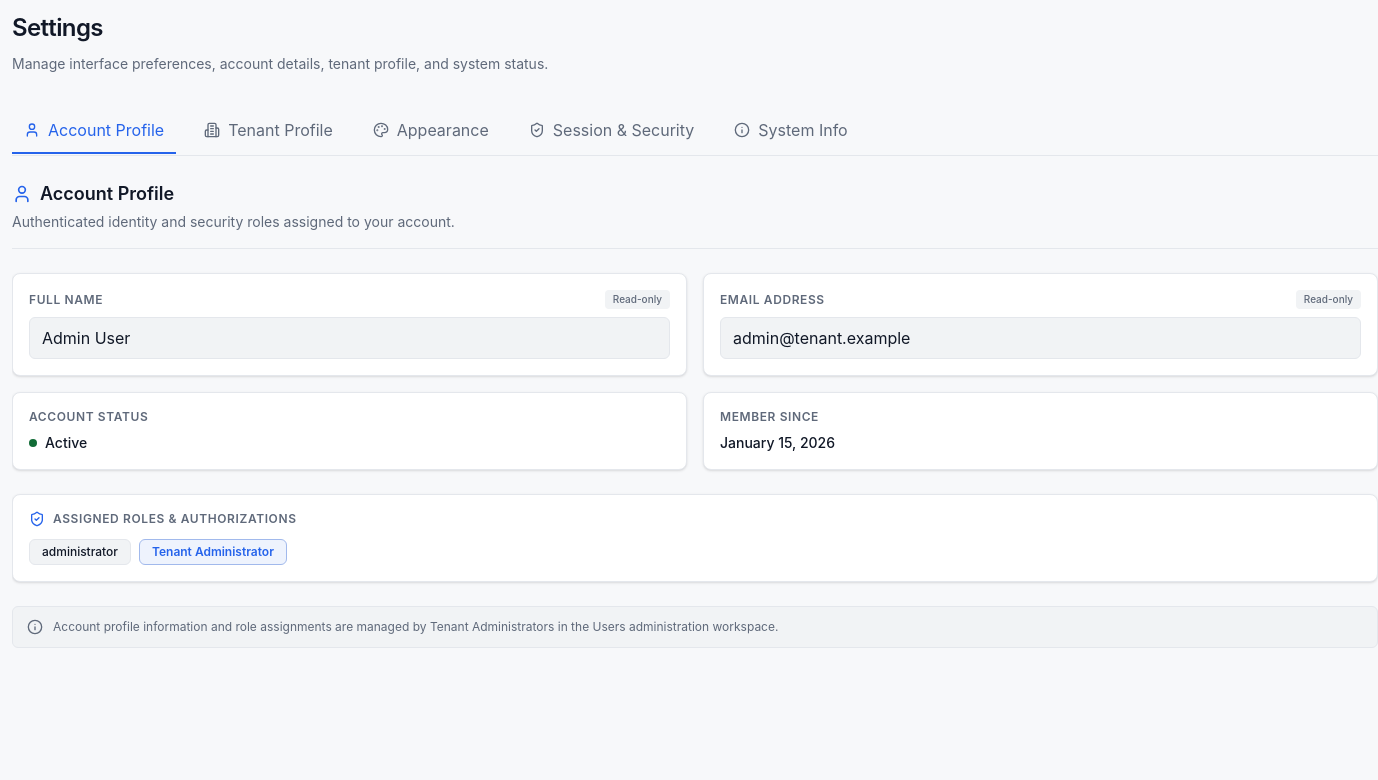
Scenario: SettingsWorkspace Component › tenant profile fields remain read-only without create/edit actions or tenant selectors
The image size is (1378, 780).
Check: the heading "Settings" is shown, box top-left (12, 13), bottom-right (103, 42)
Click the tab "Tenant Profile": (268, 131) top-left (192, 108), bottom-right (345, 154)
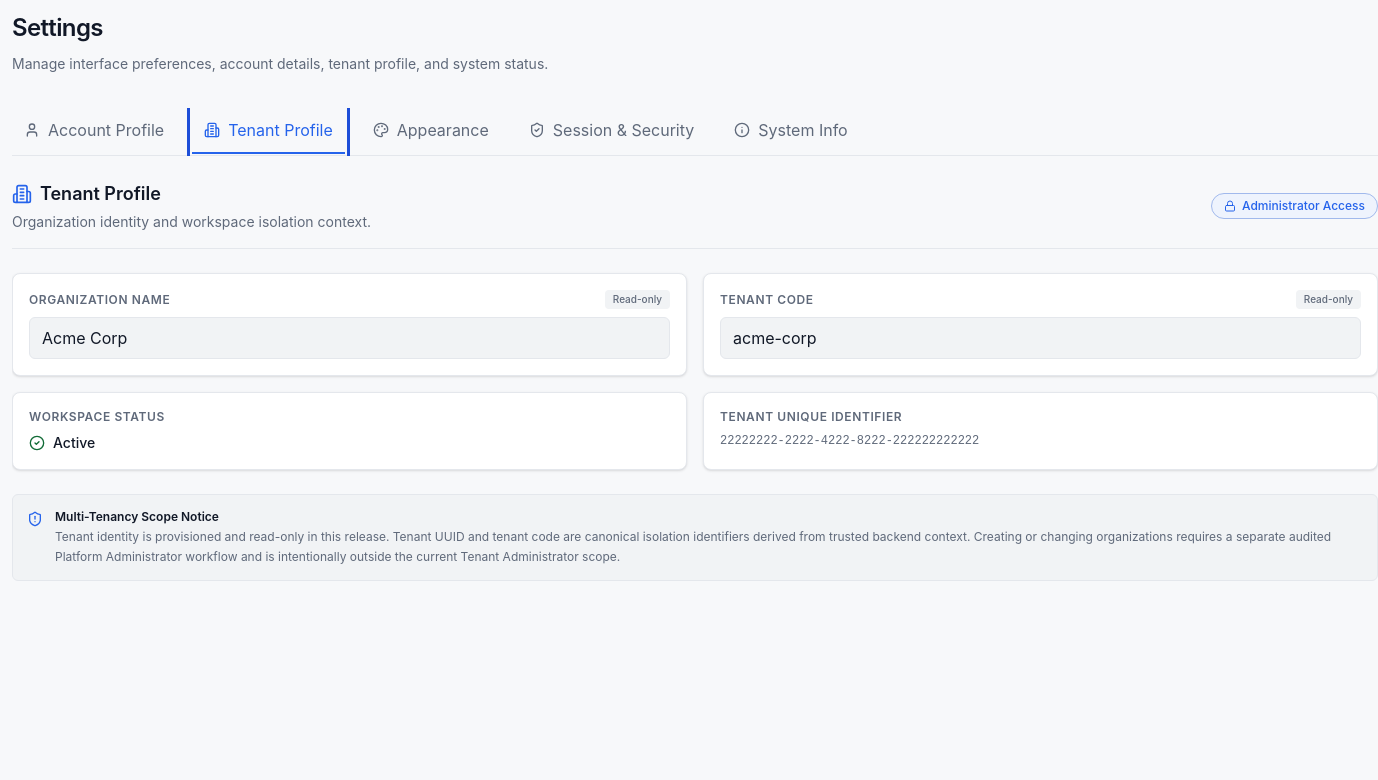
Check: the field labelled "Organization Name" holds "Acme Corp", box top-left (29, 317), bottom-right (670, 359)
Check: the field labelled "Tenant Code" holds "acme-corp", box top-left (720, 317), bottom-right (1361, 359)
Check: the text "Multi-Tenancy Scope Notice" is shown, box top-left (55, 509), bottom-right (219, 524)
